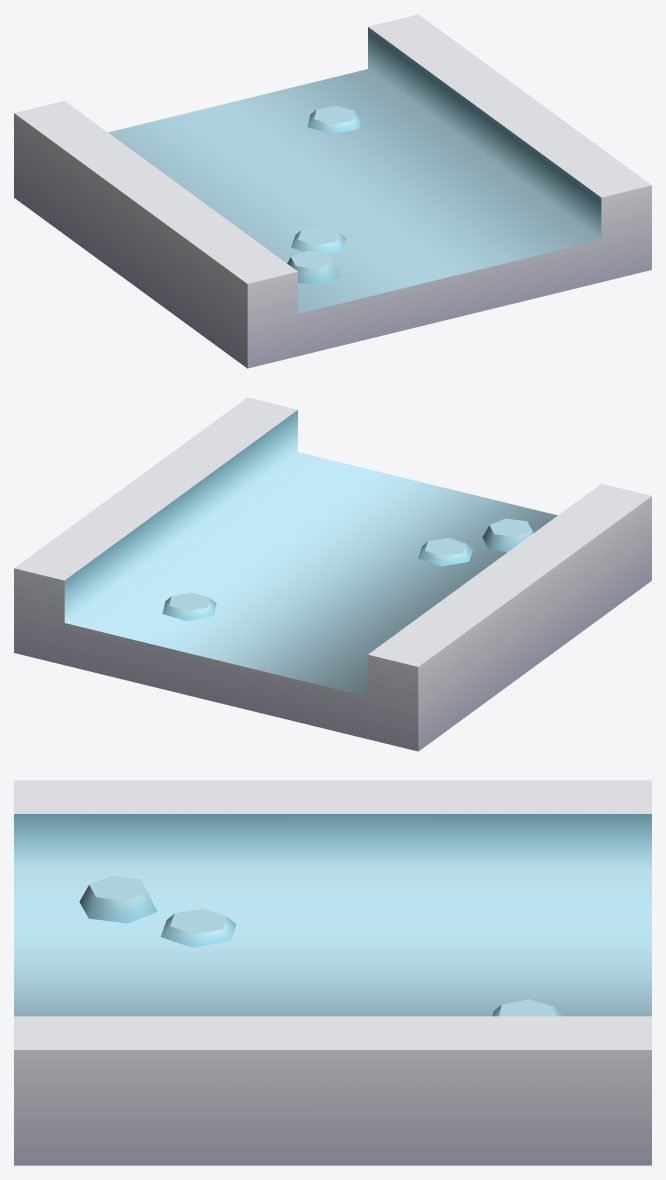
The model's file is kenney-tower-defense-snow-tile-straight.glb.
The picture shows the model from 3 angles, top to bottom: view 1: azimuth 30°, elevation 25°; view 2: azimuth 150°, elevation 25°; view 3: azimuth 270°, elevation 25°; orthographic projection. The views are drawn at different scales.
Visible parts, largest first — view 1: snow-tile-straight; view 2: snow-tile-straight; view 3: snow-tile-straight.
Part boxes in pixels (bbox=[...]): snow-tile-straight: bbox=[14, 14, 651, 368]; snow-tile-straight: bbox=[14, 397, 651, 751]; snow-tile-straight: bbox=[14, 780, 651, 1165].
Bounding box in the file's own units: 1 × 0.2 × 1.
Materials: 1 (1 with a texture image).
